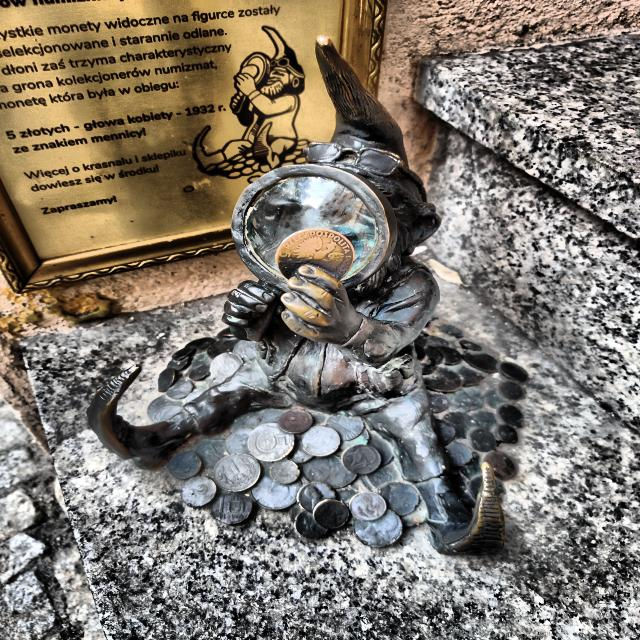Numizmatyk: (87, 38, 527, 555)
